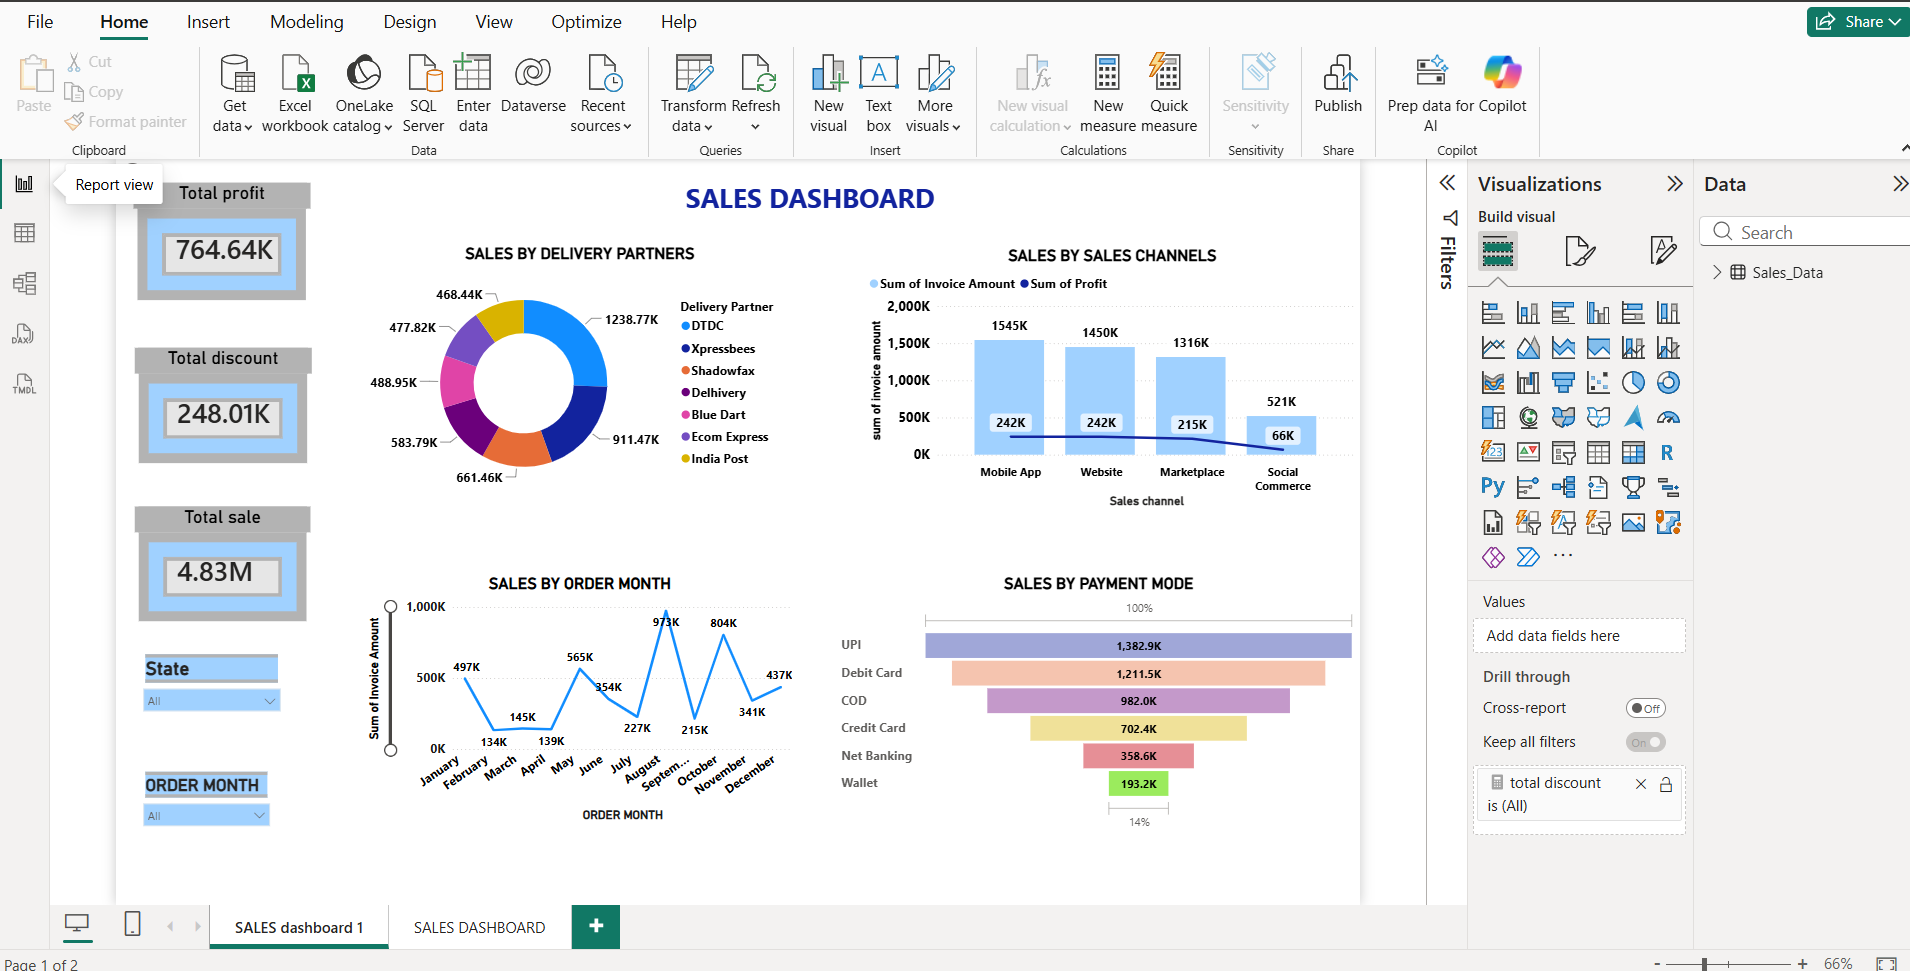

The page's visual inventory and layout, read from the dashboard file:
{"tool":"powerbi","page":{"name":"SALES dashboard 1","canvas":[1500,900],"ordinal":0},"visuals":[{"type":"cardVisual","title":"Total sale","fields":{"Data":["Sales_Data.total sale"]},"box":[22.3,418.7,212.2,143.8],"z":0},{"type":"funnel","title":"SALES BY PAYMENT MODE","fields":{"Category":["Sales_Data.Payment Mode"],"Y":["Sum(Sales_Data.Invoice Amount)"]},"box":[869.6,501.1,630.9,315.4],"z":1000},{"type":"lineChart","title":"SALES BY ORDER MONTH","fields":{"Category":["Sales_Data.ORDER MONTH"],"Y":["Sum(Sales_Data.Invoice Amount)"]},"box":[298.7,501.1,522,304.3],"z":2000},{"type":"donutChart","title":"SALES BY DELIVERY PARTNERS","fields":{"Category":["Sales_Data.Delivery Partner"],"Y":["Sum(Sales_Data.Invoice Amount)"]},"box":[298.7,101.9,522,312.7],"z":3000},{"type":"actionButton","box":[0,0,100,40],"z":4000},{"type":"cardVisual","title":"Total profit","fields":{"Data":["Sales_Data.total profit"]},"box":[20.9,27.9,213.6,146.6],"z":5000},{"type":"cardVisual","title":"Total discount","fields":{"Data":["Sales_Data.total discount"]},"box":[22.3,227.5,213.6,145.2],"z":6000},{"type":"lineClusteredColumnComboChart","title":"SALES BY SALES CHANNELS","fields":{"Category":["Sales_Data.Sales Channel"],"Y":["Sum(Sales_Data.Invoice Amount)"],"Y2":["Sum(Sales_Data.Profit)"]},"box":[903.1,106.1,597.4,319.6],"z":7000},{"type":"slicer","fields":{"Values":["Sales_Data.ORDER MONTH"]},"box":[22.3,734.2,173.1,82.4],"z":8000},{"type":"slicer","fields":{"Values":["Sales_Data.State"]},"box":[22.3,593.2,185.6,82.4],"z":9000},{"type":"textbox","box":[633.7,19.5,407.6,60],"z":10000}]}

Visuals, with their boxes on the page's 1500x900 design canvas (x1, y1, x2, y2). These are canvas units, not pixel positions in the 1910x971 screenshot, which may show the page scaled, cropped or inside an application window:
"Total sale" cardVisual: bbox=(22, 419, 234, 562)
"SALES BY PAYMENT MODE" funnel: bbox=(870, 501, 1500, 816)
"SALES BY ORDER MONTH" lineChart: bbox=(299, 501, 821, 805)
"SALES BY DELIVERY PARTNERS" donutChart: bbox=(299, 102, 821, 415)
actionButton: bbox=(0, 0, 100, 40)
"Total profit" cardVisual: bbox=(21, 28, 234, 174)
"Total discount" cardVisual: bbox=(22, 228, 236, 373)
"SALES BY SALES CHANNELS" lineClusteredColumnComboChart: bbox=(903, 106, 1500, 426)
slicer - Sales_Data.ORDER MONTH: bbox=(22, 734, 195, 817)
slicer - Sales_Data.State: bbox=(22, 593, 208, 676)
textbox: bbox=(634, 20, 1041, 80)
